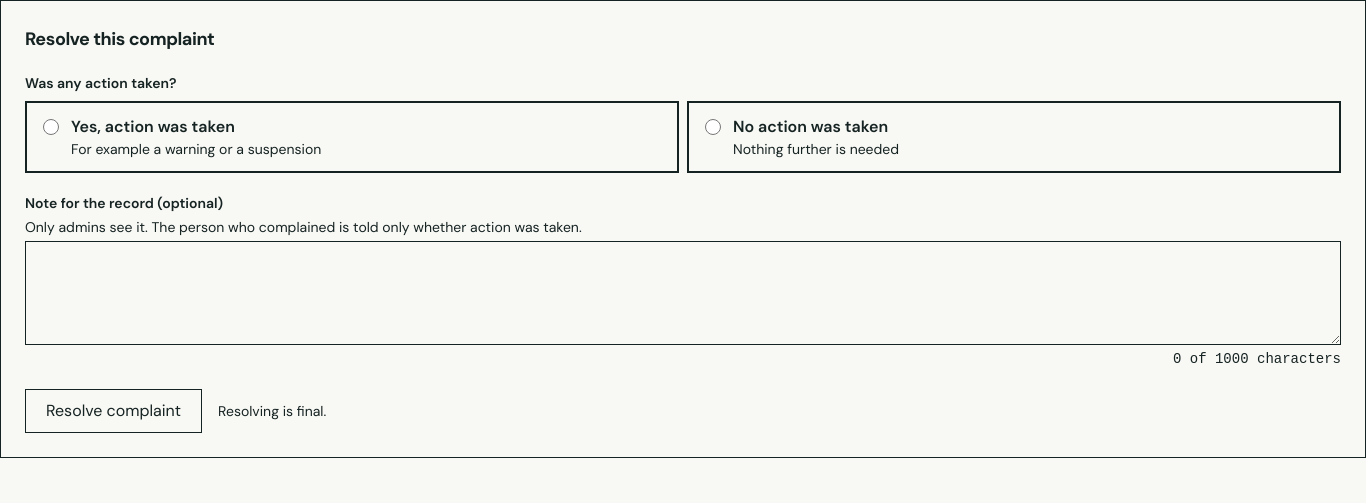
Test: ComplaintStatusActions (OA-FR-18, CS455-53) › needs whether action was taken before resolving
Click the button "Resolve complaint" at (114, 411), box [25, 389, 202, 433]
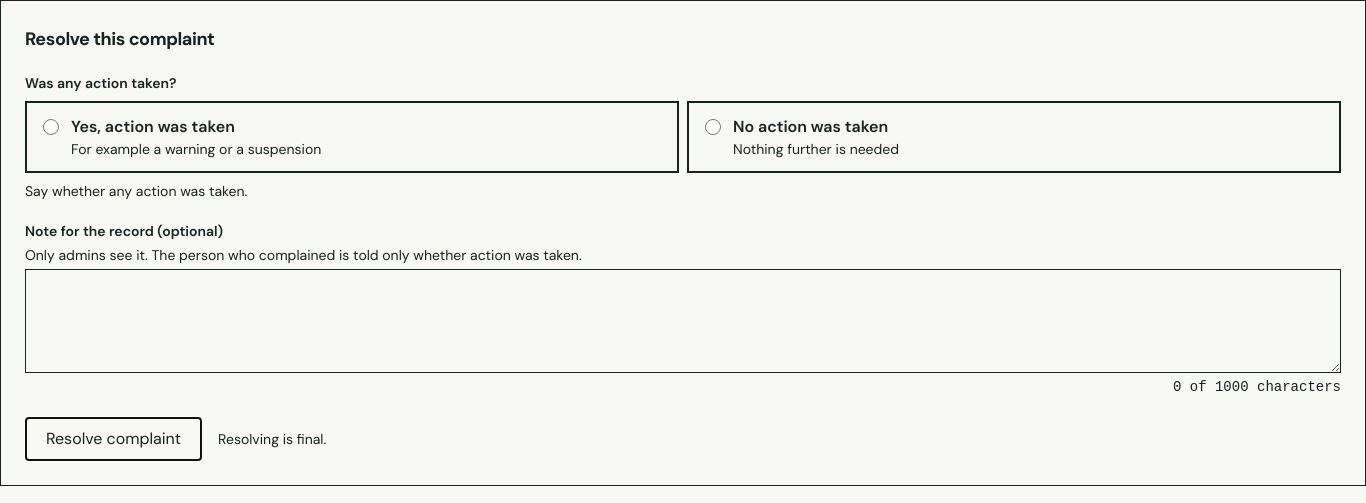
expect the text "Say whether any action was taken." is shown: met, box [25, 182, 247, 200]
